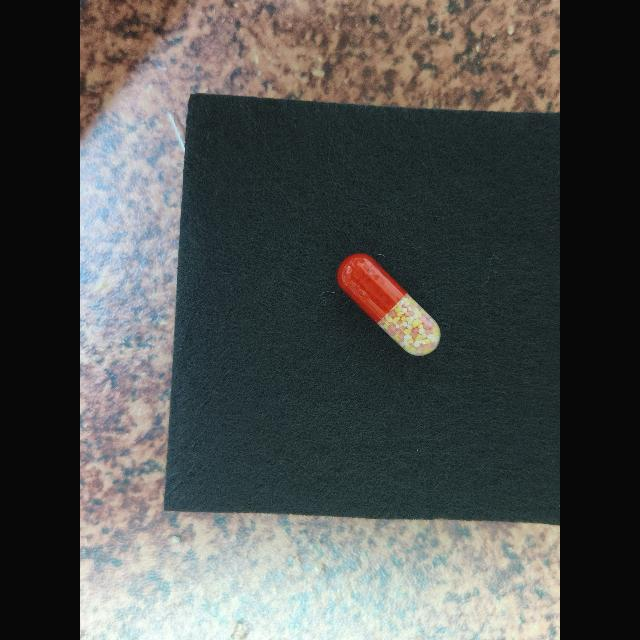Intact Capsule: (337, 253, 441, 356)
